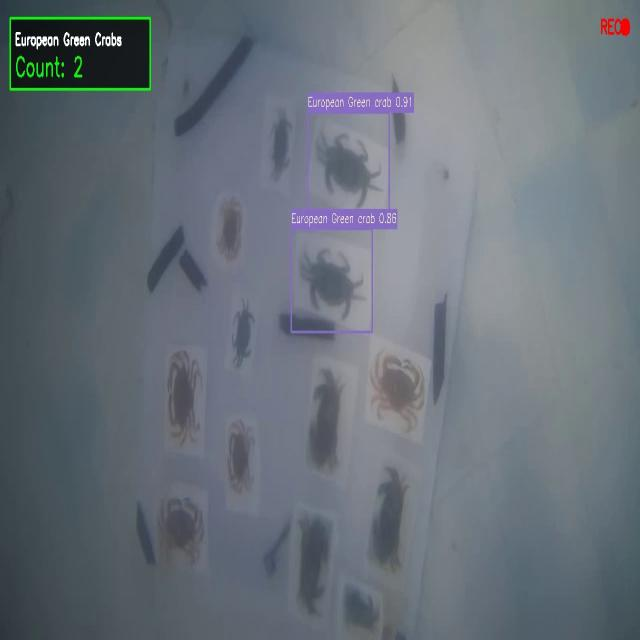European_Green_Crab: (313, 122, 388, 211), (298, 233, 364, 323), (227, 292, 258, 379), (265, 99, 295, 188)
